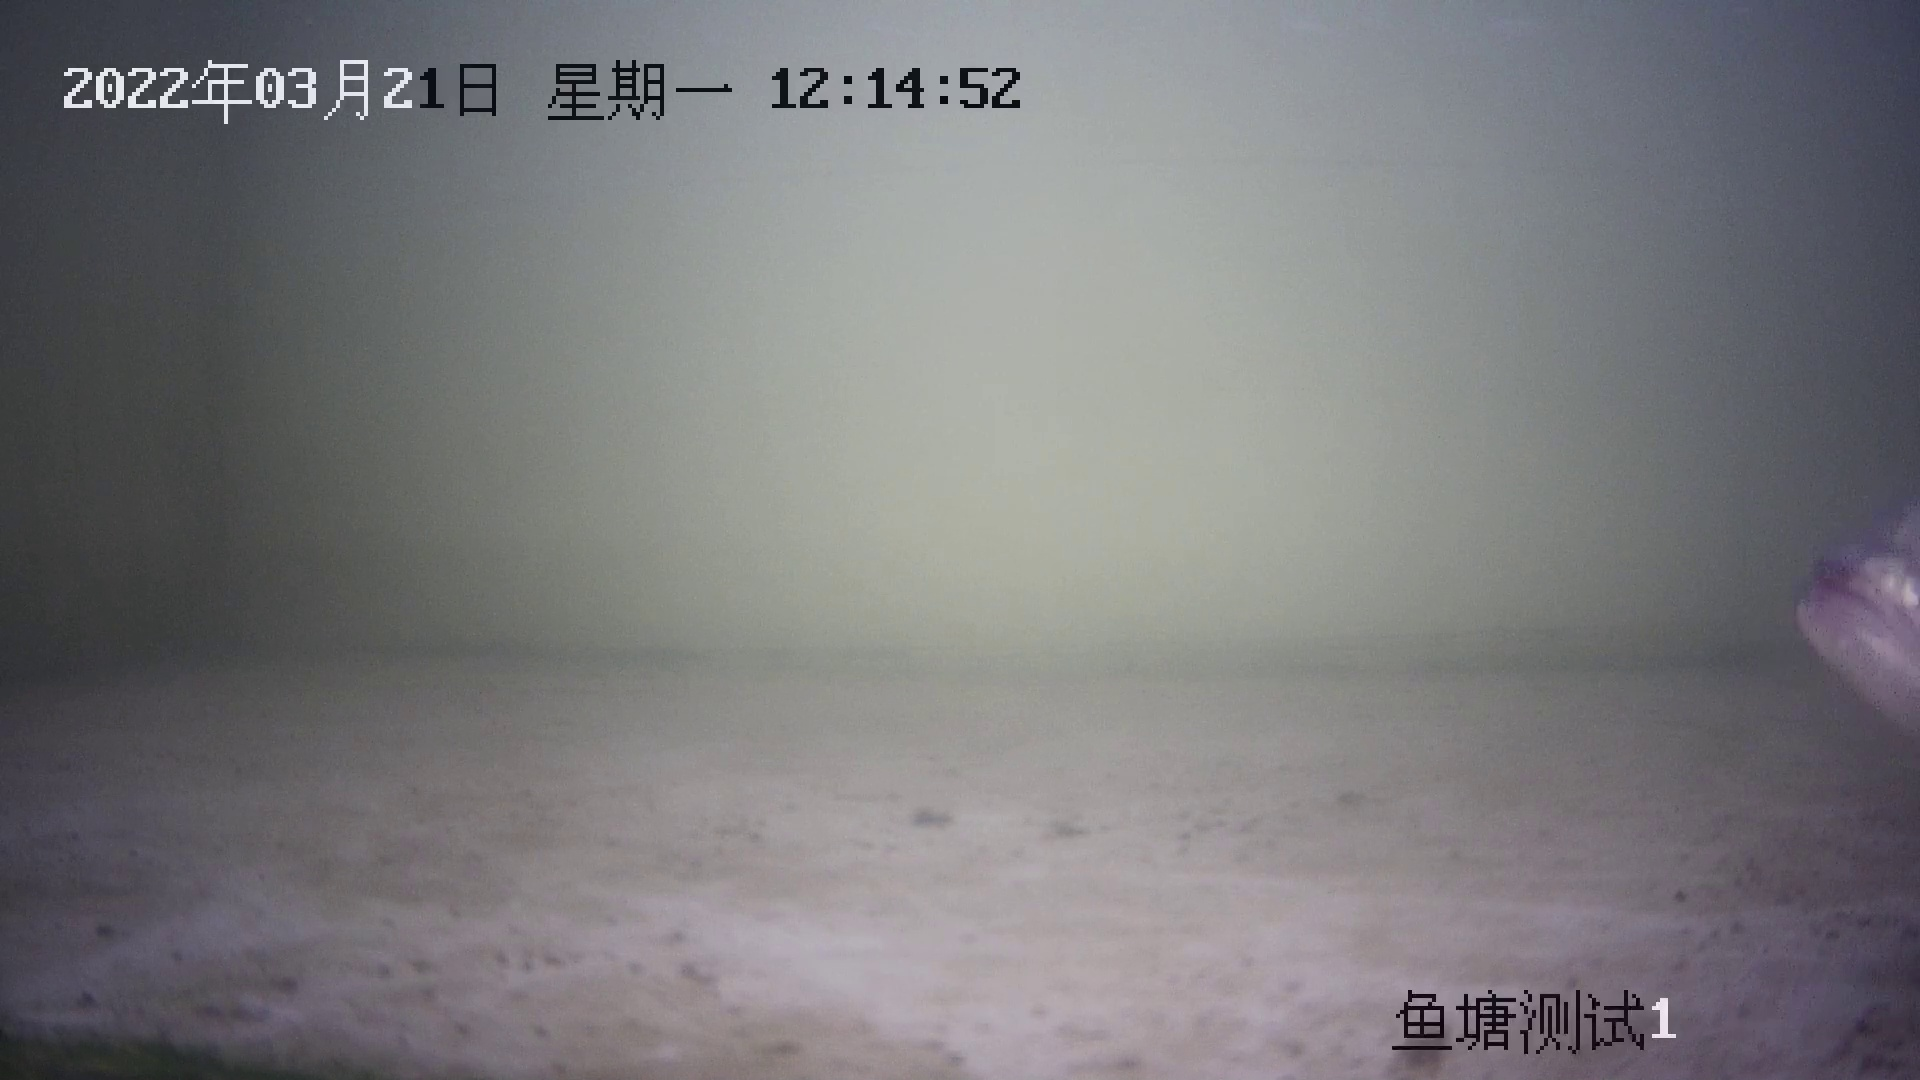fry: (1793, 471, 1920, 742)
